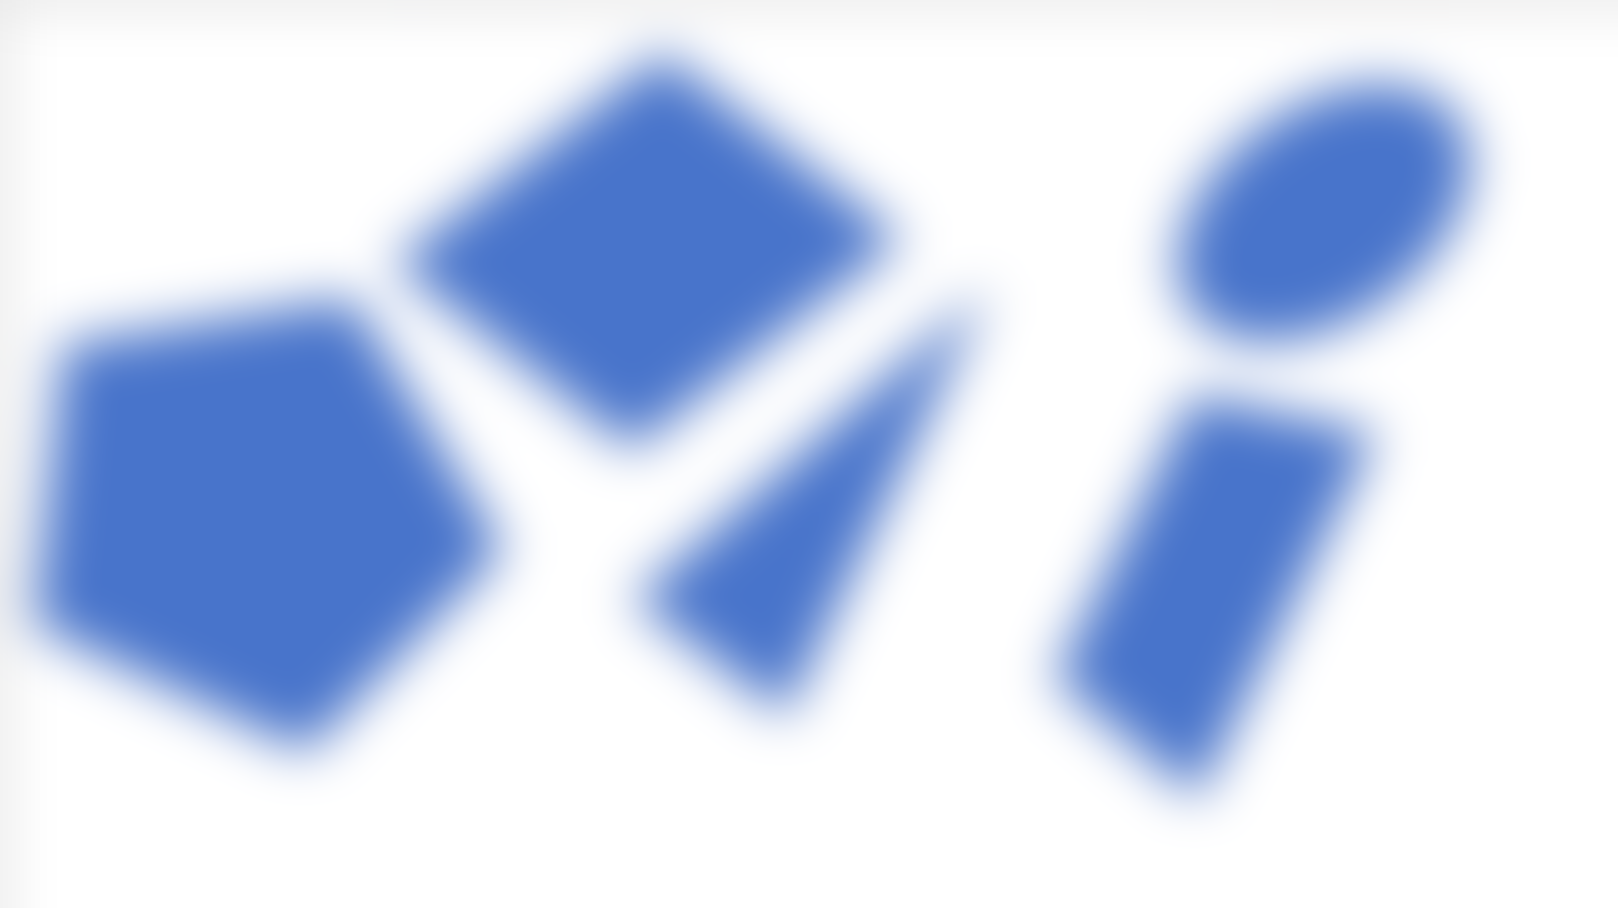circle: (1153, 63, 1508, 355)
parallelogram: (404, 54, 883, 445)
pentagon: (20, 265, 540, 791)
trapezium: (1027, 388, 1394, 814)
triangle: (618, 299, 1032, 708)
